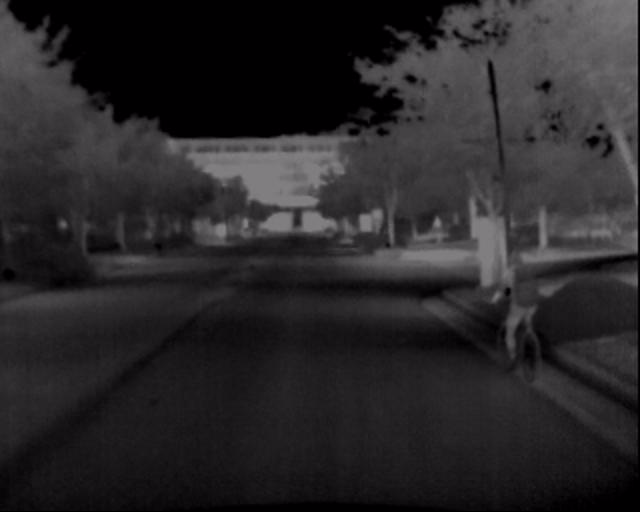person: (495, 249, 544, 369)
